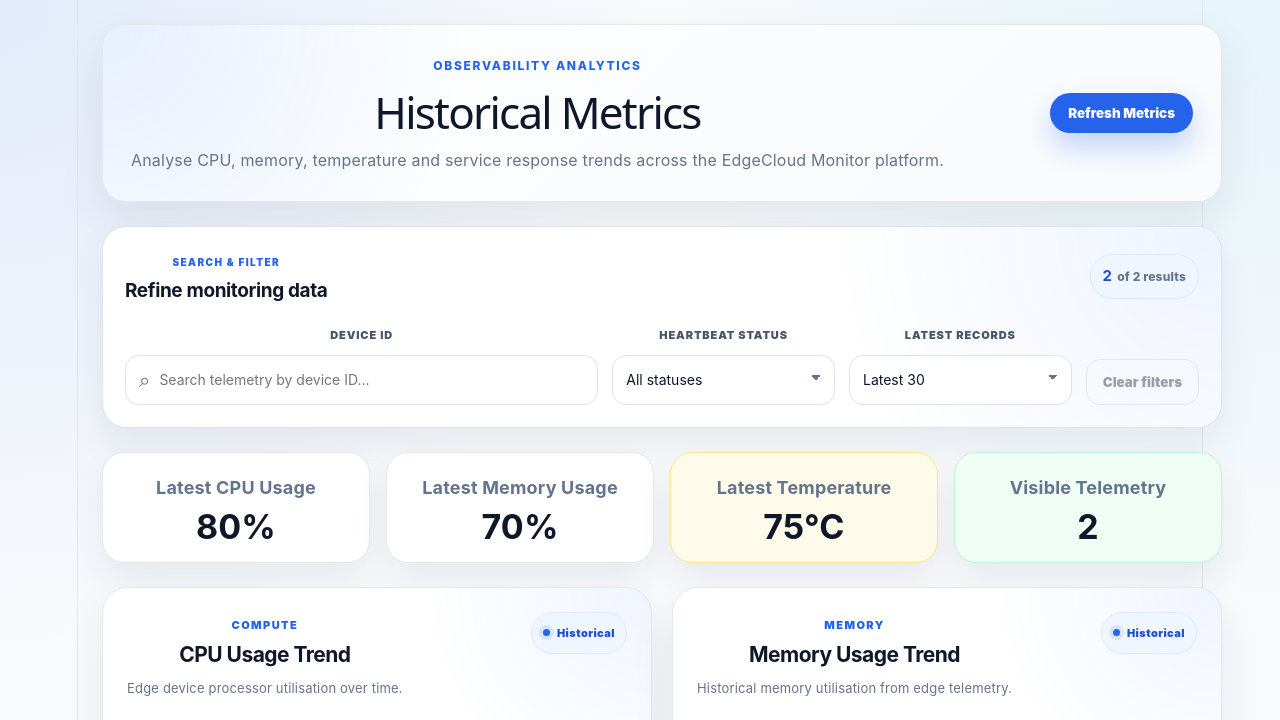
Test: TelemetryPage › shows a filtered empty state
Type "missing-device" into the search field labelled "Device ID". click: [378, 380]
box: [159,356,597,404]
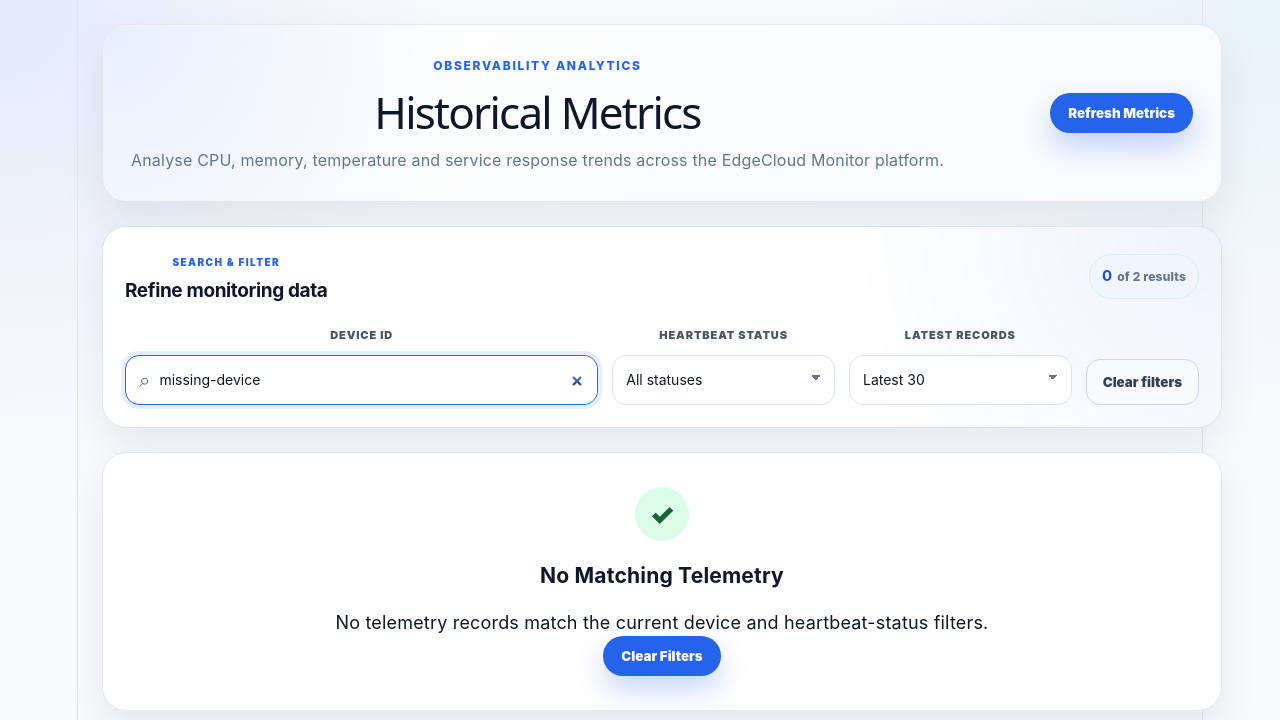
expect the heading "No Matching Telemetry" is shown: met, box [540,562,784,588]
